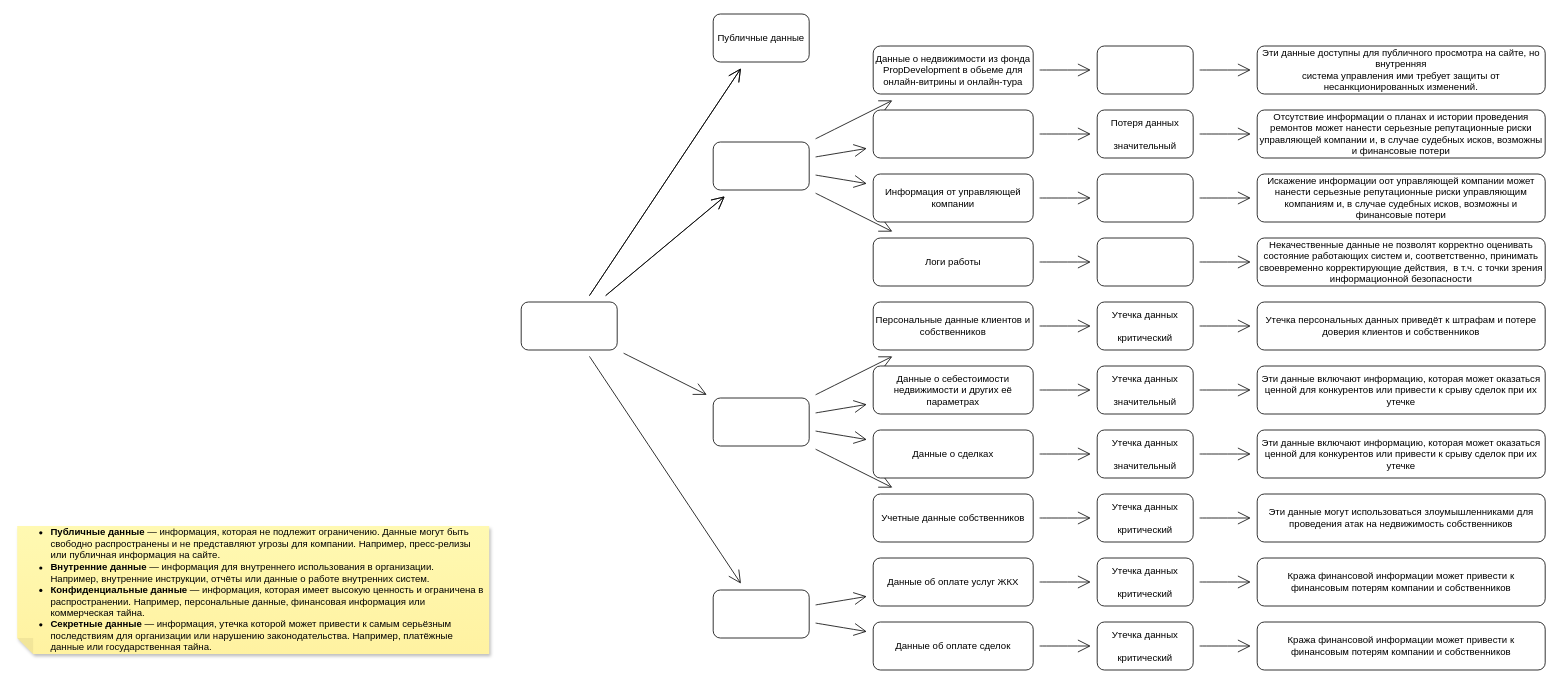
The diagram is 1559 pixels wide and 684 high, and some of its shapes have lost their labels. The shapes that lost their labels are listed below. From the top down, each one's centre as x and y in pixels, then its label:
point 1144,69: Искажение данных незначительный
point 952,133: Планы и история проведения ремонтов
point 760,165: Внутренние данные
point 1144,197: Искажение данных значительный
point 1144,261: Некачественные данные незначительный
point 568,325: Безопасность данных
point 760,421: Конфиденциальные данные
point 760,613: Секретные данные
